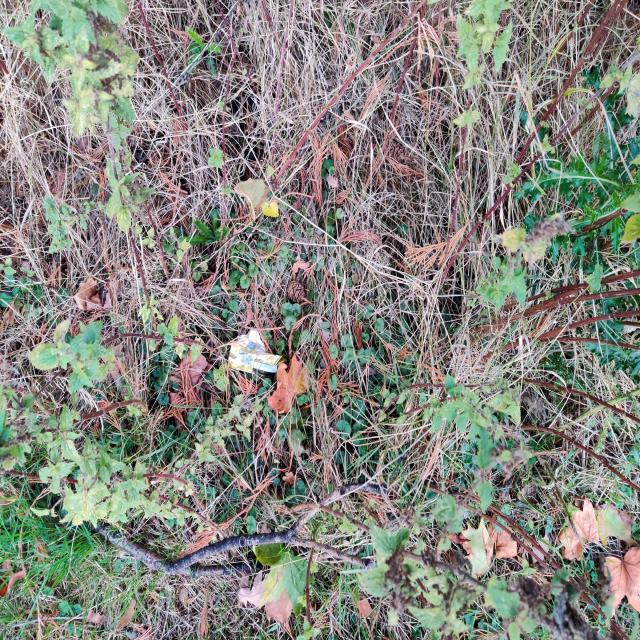litter: (223, 314, 298, 390)
